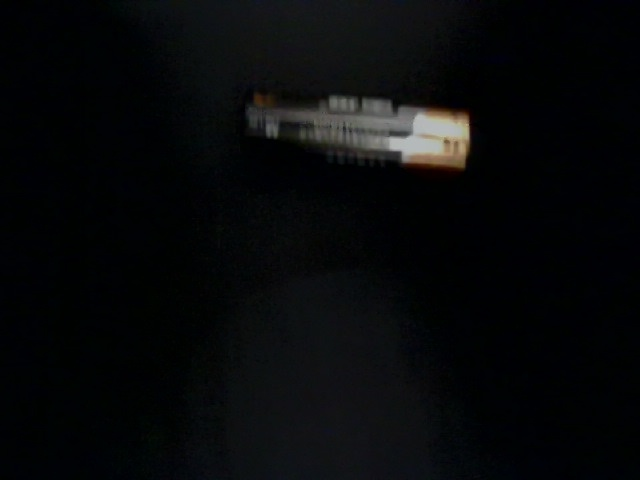YHLJ: (35, 6, 265, 165)
